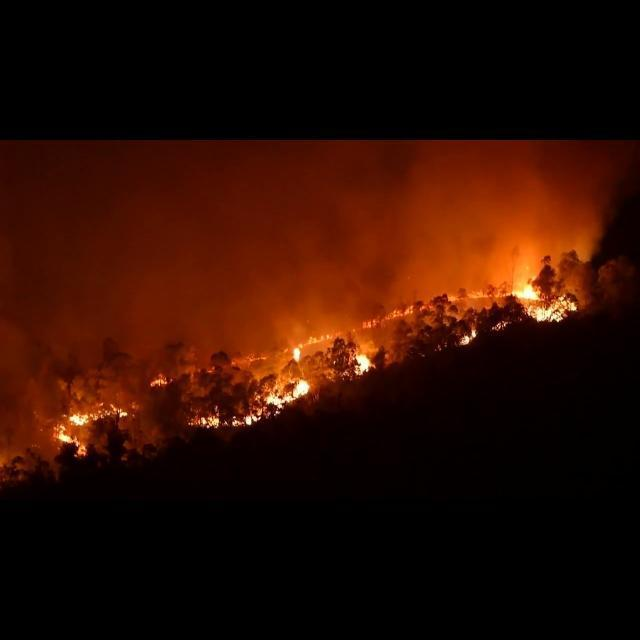Fire: (149, 276, 579, 429), (52, 398, 128, 458)
Smoke: (1, 140, 611, 256), (3, 261, 134, 396)
